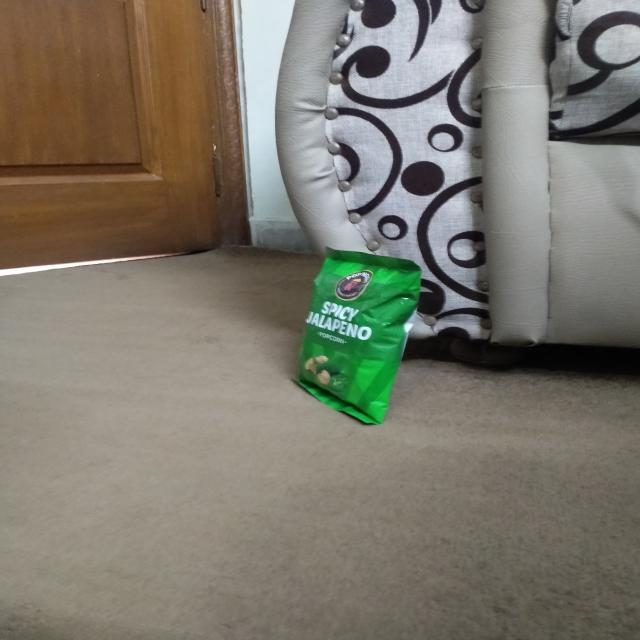Plastic: (288, 250, 433, 433)
